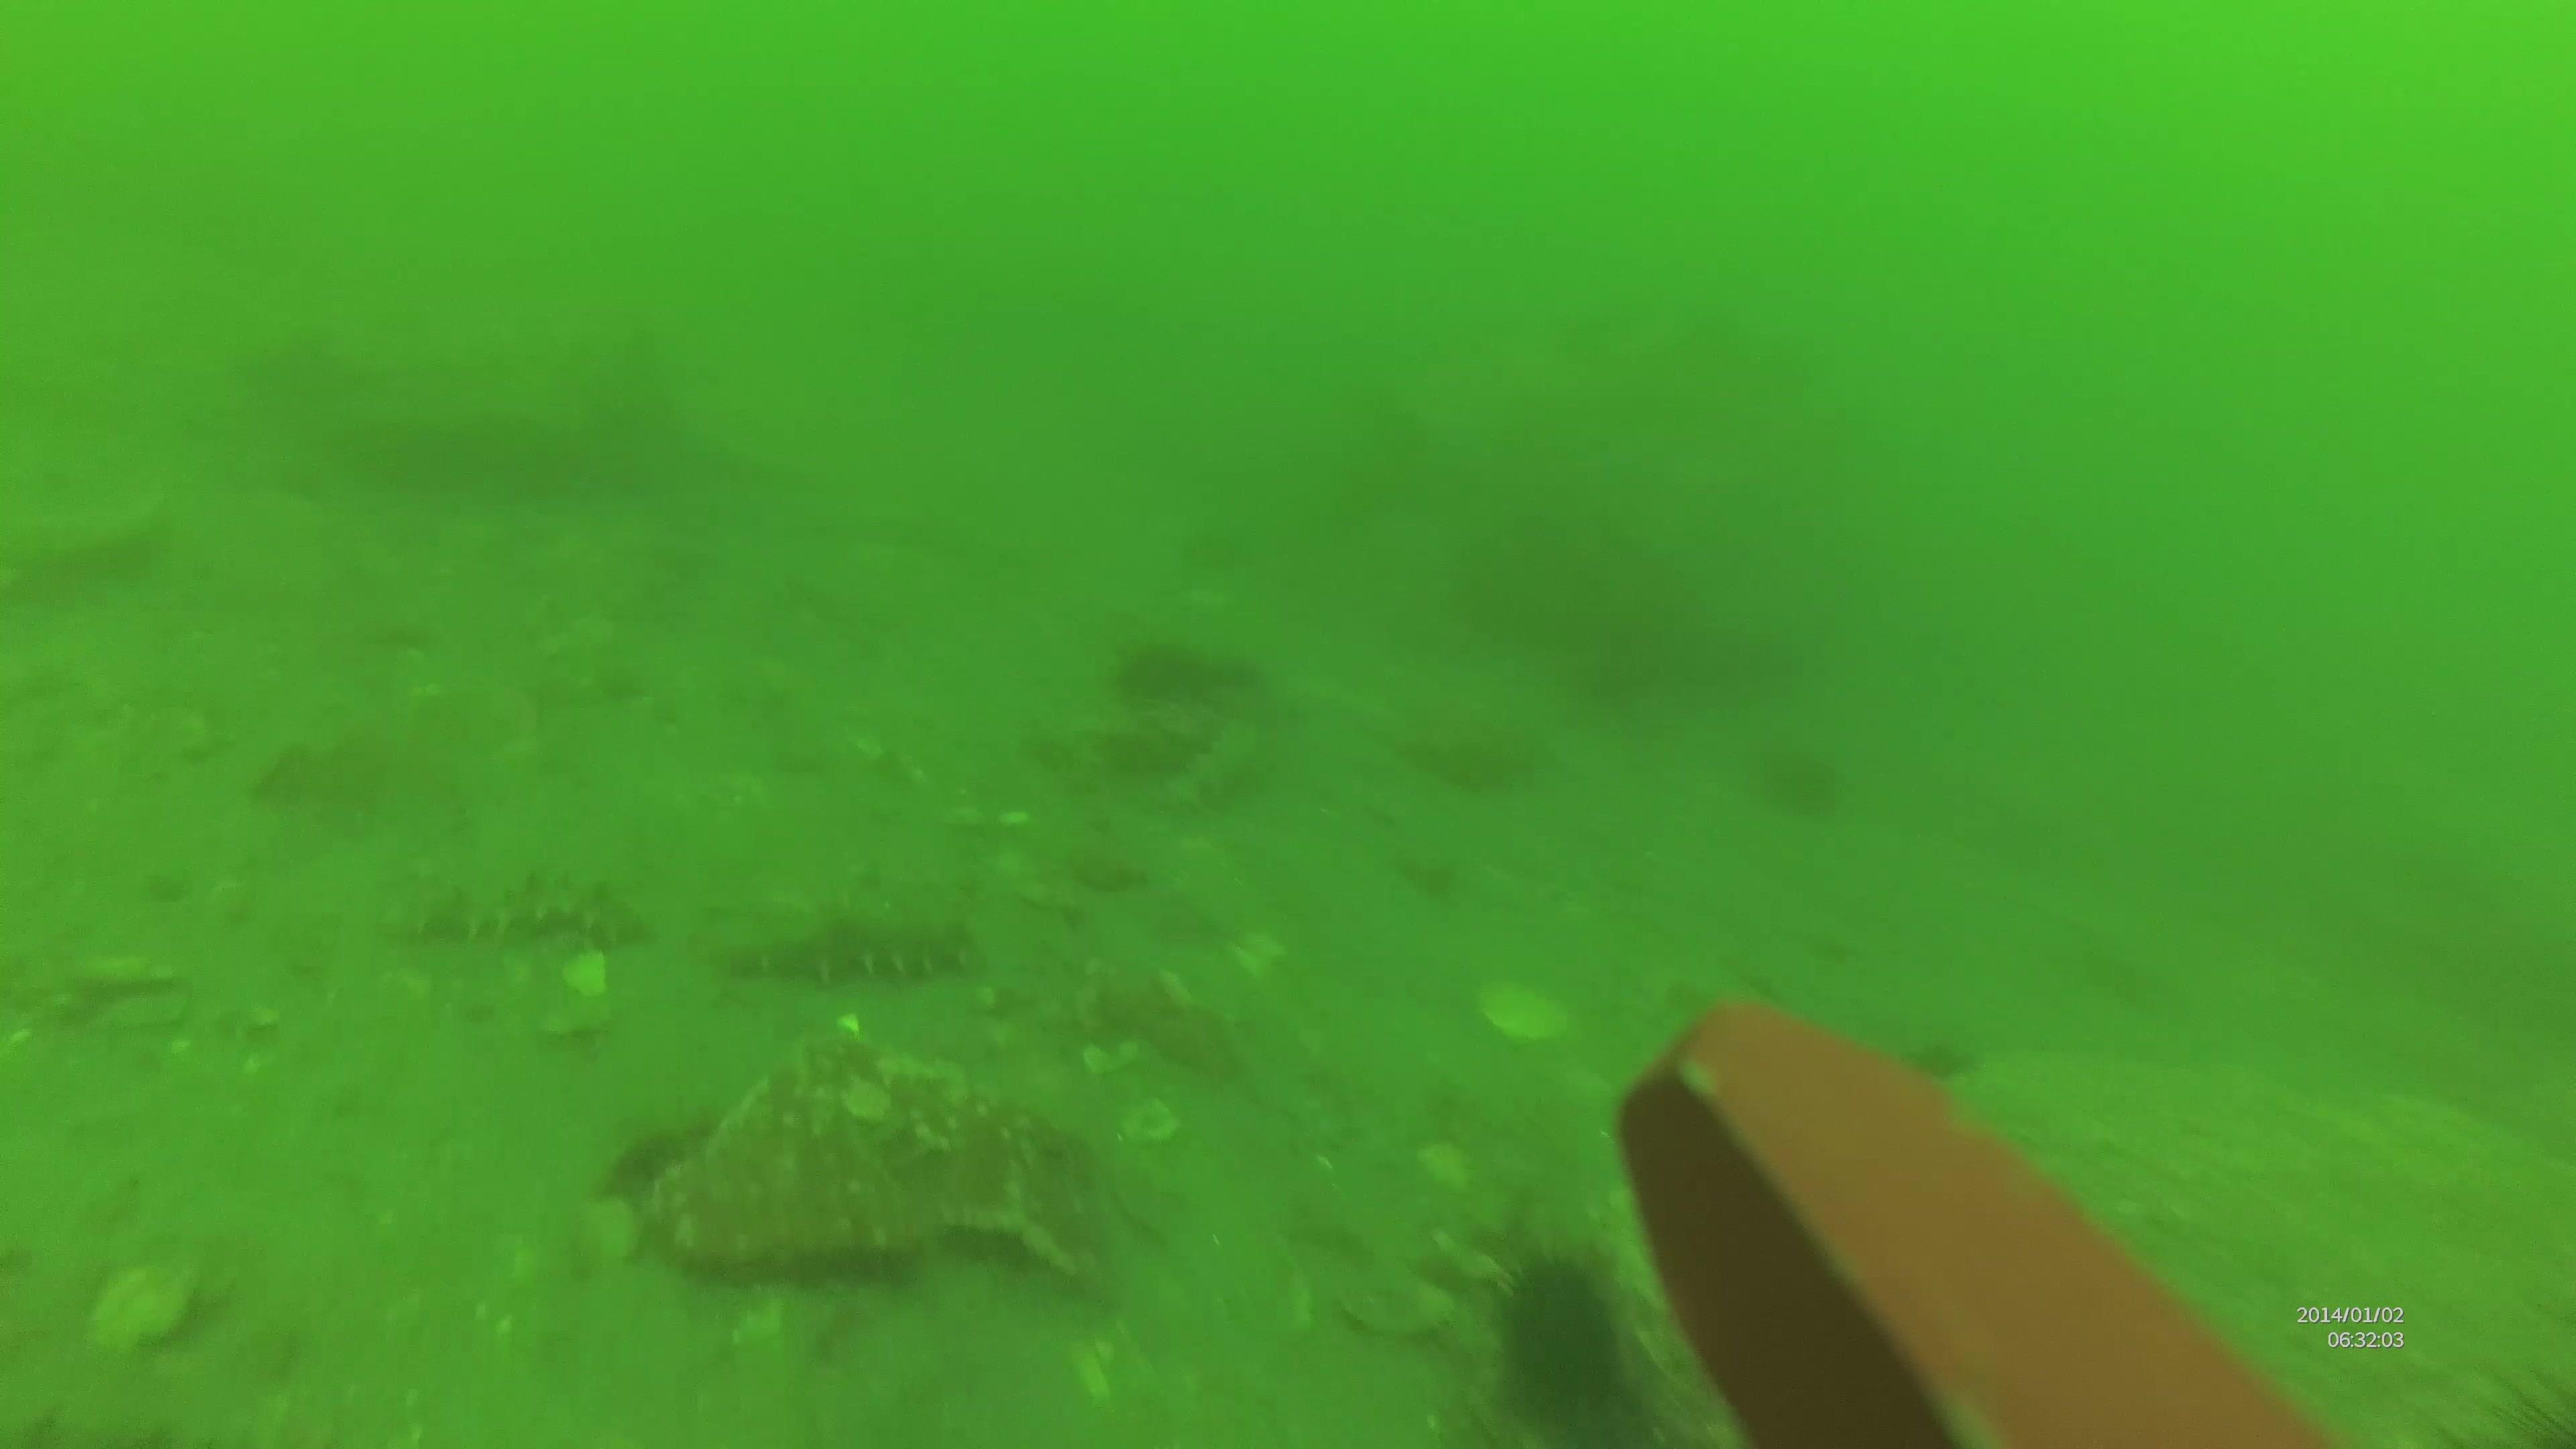echinus: (1472, 1231, 1661, 1445)
holothurian: (722, 908, 985, 996), (384, 878, 640, 961)
scallop: (1477, 975, 1575, 1047)
